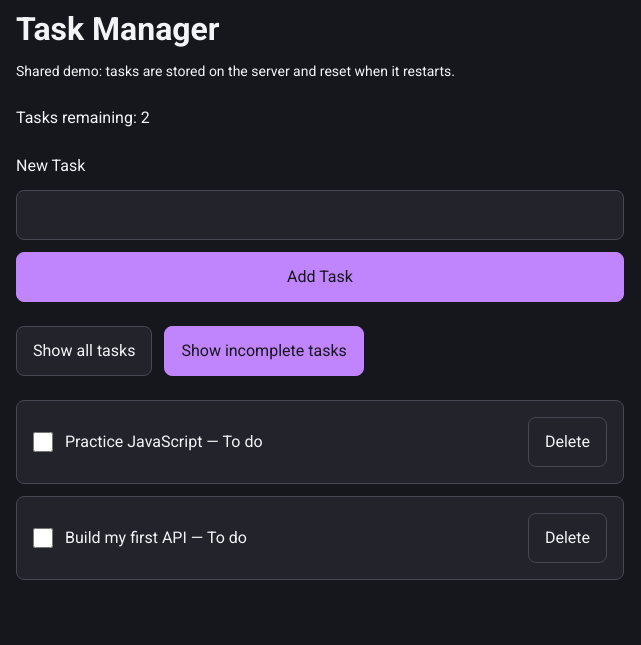
Test: keeps a task visible when DELETE fails: HTTP
Check: the field labelled "New Task" is enabled, box x1=16 y1=190 x2=624 y2=240
Click the button with aria-label "Delete task: Practice JavaScript": click(567, 442) x1=528 y1=417 x2=607 y2=467
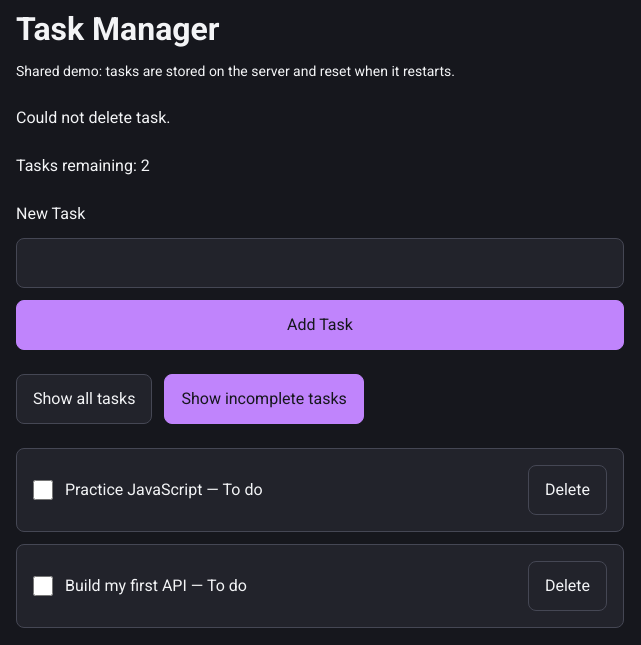
Check: the checkbox named "Practice JavaScript" is shown, box x1=33 y1=480 x2=53 y2=500
Check: the message reads "Could not delete task.", box x1=16 y1=108 x2=170 y2=127
